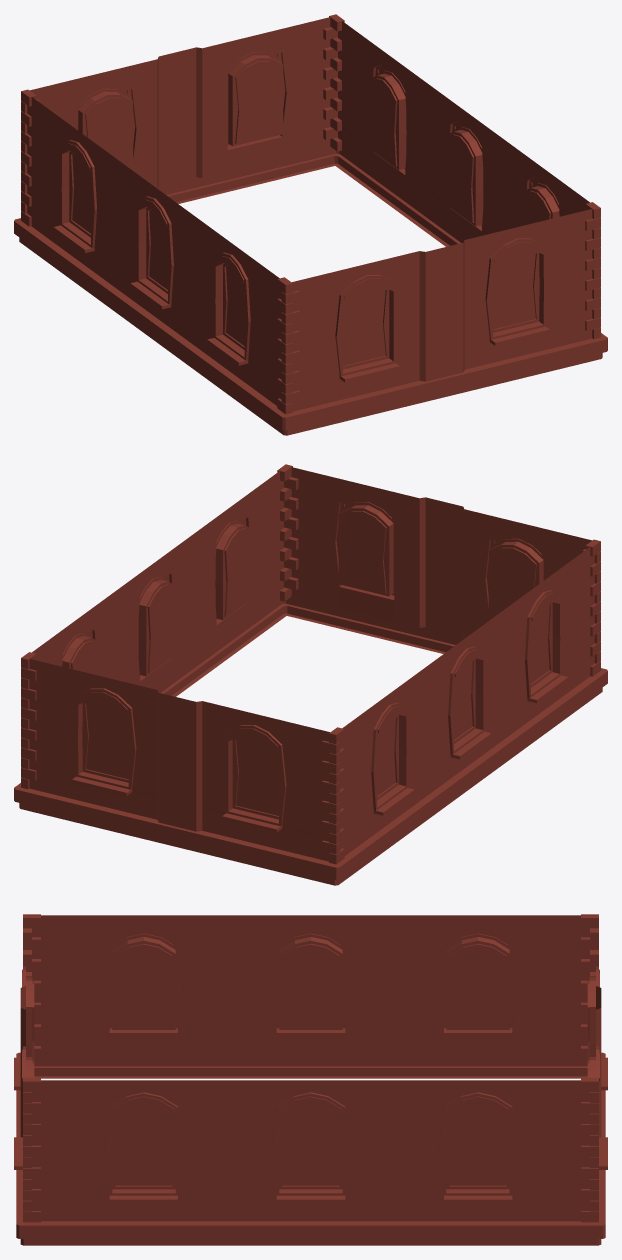
File: House01_Floor2.fbx
3 renders of one model, top to bottom at view 1: azimuth 30°, elevation 25°; view 2: azimuth 150°, elevation 25°; view 3: azimuth 270°, elevation 25°, orthographic. The views are drawn at different scales.
Visible parts, largest first — view 1: Plane.035; view 2: Plane.035; view 3: Plane.035.
Part boxes in pixels (x1,y1,x2,y2): Plane.035: [14, 14, 607, 435]; Plane.035: [14, 464, 607, 885]; Plane.035: [14, 914, 607, 1245].
Size of the model in its own units: 690 by 300 by 990.
